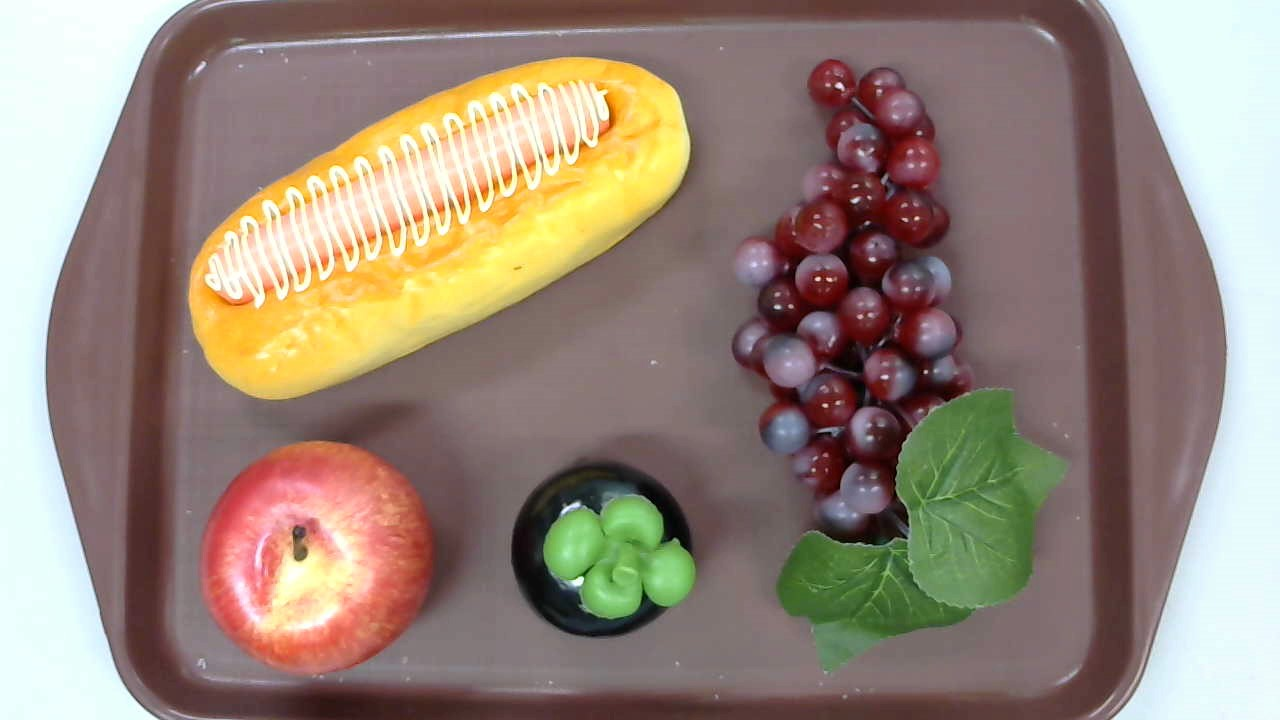grape: (730, 59, 1073, 676)
hot dog: (188, 55, 690, 399)
mangosteen: (511, 459, 697, 639)
red apple: (199, 441, 434, 676)
